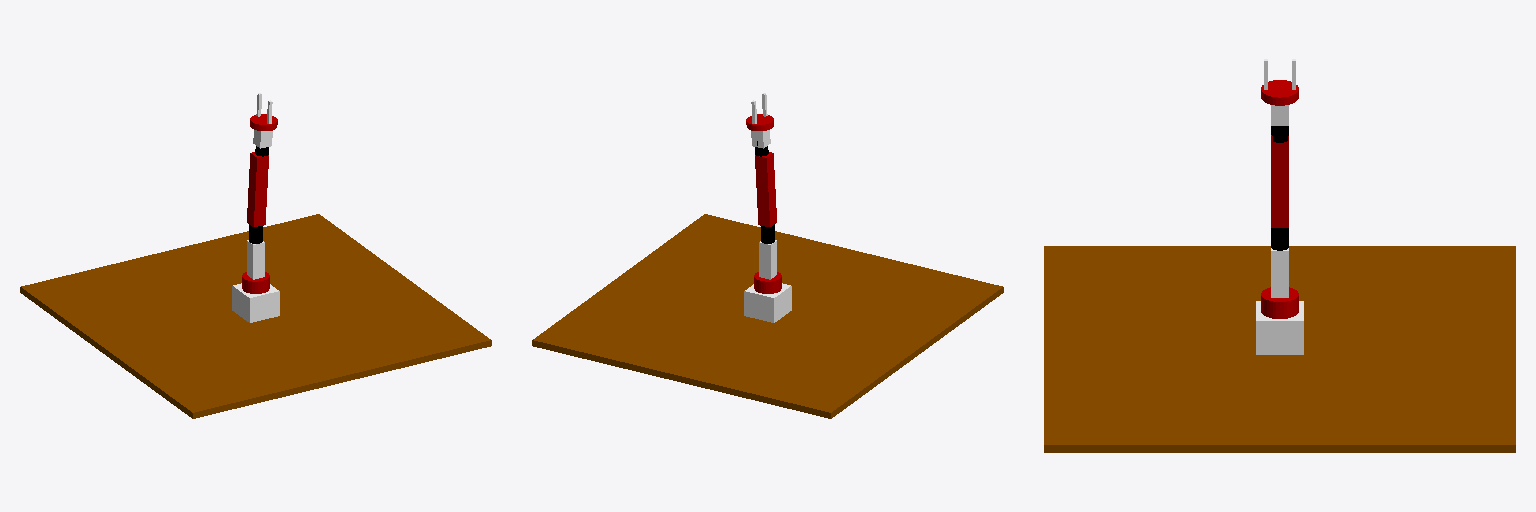
robot.urdf — seven_dof_arm:
<?xml version="1.0" ?>
<!-- =================================================================================== -->
<!-- |    This document was autogenerated by xacro from [local-path]/myrobot_ws/src/learn_urdf_pkg/xacro/seven_dof_arm.xacro | -->
<!-- |    EDITING THIS FILE BY HAND IS NOT RECOMMENDED                                 | -->
<!-- =================================================================================== -->
<robot name="seven_dof_arm">
    <!-- Include material -->
    <material name="Black">
        <color rgba="0 0 0 1" />
    </material>
    <material name="Red">
        <color rgba="0.8 0.0 0.0 1.0" />
    </material>
    <material name="White">
        <color rgba="1.0 1.0 1.0 1.0" />
    </material>
    <!-- Robot Description -->
    <!-- Bottom link -->
    <link name="bottom_link">
        <visual>
            <origin rpy="0 0 0" xyz=" 0 0 -0.04" />
            <geometry>
                <box size="1 1 0.02" />
            </geometry>
            <material name="Brown">
                <color rgba="0.58 0.33 0 1" />
            </material>
        </visual>
        <collision>
            <origin rpy="0 0 0" xyz=" 0 0 -0.04" />
            <geometry>
                <box size="1 1 0.02" />
            </geometry>
        </collision>
        <inertial>
            <mass value="0.1" />
            <origin xyz="0 0 0" rpy="0 0 0" />
            <inertia ixx="0.03" iyy="0.03" izz="0.03" ixy="0.0" ixz="0.0" iyz="0.0" />
        </inertial>
    </link>
    <gazebo reference="bottom_link">
        <material>Gazebo/White</material>
        <plugin name="gazebo_ros_control">
            <robotNamespace>/</robotNamespace>
        </plugin>
    </gazebo>
    <!-- Bottom-Base Joint -->
    <joint name="bottom_joint" type="fixed">
        <origin rpy="0 0 0" xyz="0 0 0" />
        <parent link="bottom_link" />
        <child link="base_link" />
    </joint>
    <!-- Base Link -->
    <link name="base_link">
        <visual>
            <origin rpy="1.570795 0 0" xyz="0 0 0" />
            <!-- rotate PI/2 -->
            <geometry>
                <box size="0.1 0.1 0.1" />
            </geometry>
            <material name="White" />
        </visual>
        <collision>
            <origin rpy="1.570795 0 0" xyz="0 0 0" />
            <!-- rotate PI/2 -->
            <geometry>
                <box size="0.1 0.1 0.1" />
            </geometry>
        </collision>
        <inertial>
            <mass value="1" />
            <inertia ixx="1.0" ixy="0.0" ixz="0.0" iyy="0.5" iyz="0.0" izz="1.0" />
            <origin xyz="0 0 0" rpy="0 0 0" />
        </inertial>
        <!-- This part you get from earlier definition -->
    </link>
    <gazebo reference="base_link">
        <material>Gazebo/White</material>
    </gazebo>
    <!-- Base-Shoulder_Pan Joint -->
    <joint name="shoulder_pan_joint" type="revolute">
        <parent link="base_link" />
        <child link="shoulder_pan_link" />
        <origin rpy="0 1.570795 0.0" xyz="0 0 0.05" />
        <axis xyz="-1 0 0" />
        <limit effort="300" lower="-2.61799387799" upper="1.98394848567" velocity="1" />
        <dynamics damping="50" friction="1" />
    </joint>
    <!-- Shoulder_Pan_Link -->
    <link name="shoulder_pan_link">
        <visual>
            <origin rpy="0 1.570795 0" xyz="0 0 0" />
            <geometry>
                <cylinder length="0.08" radius="0.04" />
            </geometry>
            <material name="Red" />
        </visual>
        <collision>
            <origin rpy="0 1.570795 0" xyz="0 0 0" />
            <geometry>
                <cylinder length="0.08" radius="0.04" />
            </geometry>
        </collision>
        <inertial>
            <mass value="1" />
            <inertia ixx="1.0" ixy="0.0" ixz="0.0" iyy="0.5" iyz="0.0" izz="1.0" />
            <origin xyz="0 0 0" rpy="0 0 0" />
        </inertial>
    </link>
    <gazebo reference="shoulder_pan_link">
        <material>Gazebo/Red</material>
    </gazebo>
    <!-- Shoulder_Pan-Shoulder_Pitch Joint -->
    <joint name="shoulder_pitch_joint" type="revolute">
        <parent link="shoulder_pan_link" />
        <child link="shoulder_pitch_link" />
        <origin rpy="-1.570795 0 1.570795" xyz="-0.041 0.0021 0.0" />
        <axis xyz="1 0 0" />
        <limit effort="300" lower="-1.19962513147" upper="1.89994105047" velocity="1" />
        <dynamics damping="50" friction="1" />
    </joint>
    <!-- Shoulder_Pitch Link -->
    <link name="shoulder_pitch_link">
        <visual>
            <origin rpy="0 1.570795 0" xyz="-0.002 0 0.04" />
            <geometry>
                <box size="0.14 0.04 0.04" />
            </geometry>
            <material name="White" />
        </visual>
        <collision>
            <origin rpy="0 1.570795 0" xyz="-0.002 0 0.04" />
            <geometry>
                <box size="0.14 0.04 0.04" />
            </geometry>
        </collision>
        <inertial>
            <mass value="1" />
            <inertia ixx="1.0" ixy="0.0" ixz="0.0" iyy="0.5" iyz="0.0" izz="1.0" />
            <origin xyz="0 0 0" rpy="0 0 0" />
        </inertial>
    </link>
    <gazebo reference="shoulder_pitch_link">
        <material>Gazebo/White</material>
    </gazebo>
    <!-- Shoulder_Pitch-Elbow_Roll Joint -->
    <joint name="elbow_roll_joint" type="revolute">
        <parent link="shoulder_pitch_link" />
        <child link="elbow_roll_link" />
        <origin rpy="3.14159 1.570795 0" xyz="-0.002 0 0.1206" />
        <axis xyz="-1 0 0" />
        <limit effort="300" lower="-2.61799387799" upper="0.705631162427" velocity="1" />
        <dynamics damping="50" friction="1" />
    </joint>
    <!-- Elbow_Roll Link -->
    <link name="elbow_roll_link">
        <visual>
            <origin rpy="0 1.570795 0" xyz="-0.015 0.0 -0.0" />
            <geometry>
                <cylinder length="0.06" radius="0.02" />
            </geometry>
            <material name="Black" />
        </visual>
        <collision>
            <origin rpy="0 1.570795 0" xyz="-0.015 0.0 -0.0" />
            <geometry>
                <cylinder length="0.06" radius="0.02" />
            </geometry>
        </collision>
        <inertial>
            <mass value="1" />
            <inertia ixx="1.0" ixy="0.0" ixz="0.0" iyy="0.5" iyz="0.0" izz="1.0" />
            <origin xyz="0 0 0" rpy="0 0 0" />
        </inertial>
    </link>
    <gazebo reference="elbow_roll_link">
        <material>Gazebo/Black</material>
    </gazebo>
    <!-- Elbow_Roll-Elbow_Pitch Joint -->
    <joint name="elbow_pitch_joint" type="revolute">
        <parent link="elbow_roll_link" />
        <child link="elbow_pitch_link" />
        <origin rpy="0.055 1.570795 0" xyz="-0.035 0 0.0" />
        <axis xyz="1 0 0" />
        <limit effort="300" lower="-1.5953400194" upper="1.93281579274" velocity="1" />
        <dynamics damping="50" friction="1" />
    </joint>
    <!-- Elbow_Ptich Link -->
    <link name="elbow_pitch_link">
        <visual>
            <origin rpy="0 1.570795 0" xyz="0 0 -0.12" />
            <geometry>
                <box size="0.22 0.04 0.04" />
            </geometry>
            <material name="Red" />
        </visual>
        <collision>
            <origin rpy="0 1.570795 0" xyz="0 0 -0.12" />
            <geometry>
                <box size="0.22 0.04 0.04" />
            </geometry>
        </collision>
        <inertial>
            <mass value="1" />
            <inertia ixx="1.0" ixy="0.0" ixz="0.0" iyy="0.5" iyz="0.0" izz="1.0" />
            <origin xyz="0 0 0" rpy="0 0 0" />
        </inertial>
    </link>
    <gazebo reference="elbow_pitch_link">
        <material>Gazebo/Red</material>
    </gazebo>
    <!-- Elbow_Pitch-Wrist_Roll Joint -->
    <joint name="wrist_roll_joint" type="revolute">
        <parent link="elbow_pitch_link" />
        <child link="wrist_roll_link" />
        <origin rpy="0 1.570795 3.14159" xyz="0.0 0.0081 -.248" />
        <axis xyz="1 0 0" />
        <limit effort="300" lower="-2.61799387799" upper="2.6128806087" velocity="1" />
        <dynamics damping="50" friction="1" />
    </joint>
    <!-- Wrist_Roll Link -->
    <link name="wrist_roll_link">
        <visual>
            <origin rpy="0 1.570795 0" xyz="0 0 0" />
            <geometry>
                <cylinder length="0.06" radius="0.02" />
            </geometry>
            <material name="Black" />
        </visual>
        <collision>
            <origin rpy="0 1.570795 0" xyz="0 0 0" />
            <geometry>
                <cylinder length="0.06" radius="0.02" />
            </geometry>
        </collision>
        <inertial>
            <mass value="1" />
            <inertia ixx="1.0" ixy="0.0" ixz="0.0" iyy="0.5" iyz="0.0" izz="1.0" />
            <origin xyz="0 0 0" rpy="0 0 0" />
        </inertial>
    </link>
    <gazebo reference="wrist_roll_link">
        <material>Gazebo/Black</material>
    </gazebo>
    <!-- Wrist_Roll-Wrist Pitch Joint -->
    <joint name="wrist_pitch_joint" type="revolute">
        <parent link="wrist_roll_link" />
        <child link="wrist_pitch_link" />
        <origin rpy="0 1.570795 0" xyz="0.0 0.0 0.0001" />
        <axis xyz="1 0 0" />
        <limit effort="300" lower="-1.5953400194" upper="1.98394848567" velocity="1" />
        <dynamics damping="50" friction="1" />
    </joint>
    <!-- Wrist Pitch Link -->
    <link name="wrist_pitch_link">
        <visual>
            <origin rpy="0 1.570795 0" xyz="0 0 0.04" />
            <geometry>
                <box size="0.06 0.04 0.04" />
            </geometry>
            <material name="White" />
        </visual>
        <collision>
            <origin rpy="0 1.570795 0" xyz="0 0 0.04 " />
            <geometry>
                <box size="0.06 0.04 0.04" />
            </geometry>
        </collision>
        <inertial>
            <mass value="1" />
            <inertia ixx="1.0" ixy="0.0" ixz="0.0" iyy="0.5" iyz="0.0" izz="1.0" />
            <origin xyz="0 0 0" rpy="0 0 0" />
        </inertial>
    </link>
    <gazebo reference="wrist_pitch_link">
        <material>Gazebo/White</material>
    </gazebo>
    <!-- Wrist_pitch-Grip_roll -->
    <joint name="gripper_roll_joint" type="revolute">
        <parent link="wrist_pitch_link" />
        <child link="gripper_roll_link" />
        <origin rpy="4.712384999999999 -1.570795 0" xyz="0 0 0.080" />
        <axis xyz="1 0 0" />
        <limit effort="300" lower="-3.14" upper="3.14" velocity="1" />
        <dynamics damping="50" friction="1" />
    </joint>
    <!-- Grip_roll link -->
    <link name="gripper_roll_link">
        <visual>
            <origin rpy="0 1.570795 0" xyz="0 0 0" />
            <geometry>
                <cylinder length="0.02" radius="0.04" />
            </geometry>
            <material name="Red" />
        </visual>
        <collision>
            <origin rpy="0 1.570795 0" xyz="0 0 0" />
            <geometry>
                <cylinder length="0.02" radius="0.04" />
            </geometry>
        </collision>
        <inertial>
            <mass value="1" />
            <inertia ixx="1.0" ixy="0.0" ixz="0.0" iyy="0.5" iyz="0.0" izz="1.0" />
            <origin xyz="0 0 0" rpy="0 0 0" />
        </inertial>
    </link>
    <gazebo reference="gripper_roll_link">
        <material>Gazebo/Red</material>
    </gazebo>
    <!-- Grip_roll-Left_grip Joint-->
    <joint name="finger_joint1" type="prismatic">
        <parent link="gripper_roll_link" />
        <child link="gripper_finger_link1" />
        <origin xyz="0.0 0 0" />
        <axis xyz="0 1 0" />
        <limit effort="100" lower="0" upper="0.03" velocity="1.0" />
        <safety_controller k_position="20" k_velocity="20" soft_lower_limit="-0.15" soft_upper_limit="0.0" />
        <dynamics damping="50" friction="1" />
    </joint>
    <!-- Left Grip Link -->
    <link name="gripper_finger_link1">
        <visual>
            <origin xyz="0.04 -0.03 0" />
            <geometry>
                <box size="0.08 0.01 0.01" />
            </geometry>
            <material name="White" />
        </visual>
        <inertial>
            <mass value="1" />
            <inertia ixx="1.0" ixy="0.0" ixz="0.0" iyy="0.5" iyz="0.0" izz="1.0" />
        </inertial>
    </link>
    <gazebo reference="l_gripper_aft_link">
        <material>Gazebo/White</material>
    </gazebo>
    <!-- Grip_roll-Right_grip Joint -->
    <joint name="finger_joint2" type="prismatic">
        <parent link="gripper_roll_link" />
        <child link="gripper_finger_link2" />
        <origin xyz="0.0 0 0" />
        <axis xyz="0 1 0" />
        <limit effort="1" lower="-0.03" upper="0" velocity="1.0" />
        <dynamics damping="50" friction="1" />
    </joint>
    <!-- Right_grip Link -->
    <link name="gripper_finger_link2">
        <visual>
            <origin xyz="0.04 0.03 0" />
            <geometry>
                <box size="0.08 0.01 0.01" />
            </geometry>
            <material name="White" />
        </visual>
        <inertial>
            <mass value="1" />
            <inertia ixx="1.0" ixy="0.0" ixz="0.0" iyy="0.5" iyz="0.0" izz="1.0" />
        </inertial>
    </link>
    <gazebo reference="r_gripper_aft_link">
        <material>Gazebo/White</material>
    </gazebo>
    <!-- Grasping frame
        <link name="grasping_frame">
            <inertial>
                <origin xyz="0 0 0" rpy="0 0 0"/>
                <mass value="0.0001"/>
                <cuboid_inertia mass="0.0001" x="0.001" y="0.001" z="0.001"/>
                <inertia  ixx="1.0" ixy="0.0"  ixz="0.0"  iyy="100.0"  iyz="0.0"  izz="1.0" />
            </inertial>

            <visual>
                <origin xyz="0 0 0"/>
                <geometry> <box size="${right_gripper_len} ${right_gripper_width} ${right_gripper_height}" />
                </geometry>
                <material name="White" />
            </visual>
        </link>

        
        <joint name="grasping_frame_joint" type="fixed">
            <parent link="gripper_roll_link"/>
            <child link="grasping_frame"/>
            <origin xyz="0.08 0 0" rpy="0 0 0"/>
        </joint> -->
    <!-- Transmissions for ROS Control -->
    <transmission name="tran1">
        <type>transmission_interface/SimpleTransmission</type>
        <joint name="shoulder_pan_joint">
            <hardwareInterface>hardware_interface/PositionJointInterface</hardwareInterface>
        </joint>
        <actuator name="motor1">
            <hardwareInterface>hardware_interface/PositionJointInterface</hardwareInterface>
            <mechanicalReduction>1</mechanicalReduction>
        </actuator>
    </transmission>
    <transmission name="tran1">
        <type>transmission_interface/SimpleTransmission</type>
        <joint name="shoulder_pitch_joint">
            <hardwareInterface>hardware_interface/PositionJointInterface</hardwareInterface>
        </joint>
        <actuator name="motor1">
            <hardwareInterface>hardware_interface/PositionJointInterface</hardwareInterface>
            <mechanicalReduction>1</mechanicalReduction>
        </actuator>
    </transmission>
    <transmission name="tran1">
        <type>transmission_interface/SimpleTransmission</type>
        <joint name="elbow_roll_joint">
            <hardwareInterface>hardware_interface/PositionJointInterface</hardwareInterface>
        </joint>
        <actuator name="motor1">
            <hardwareInterface>hardware_interface/PositionJointInterface</hardwareInterface>
            <mechanicalReduction>1</mechanicalReduction>
        </actuator>
    </transmission>
    <transmission name="tran1">
        <type>transmission_interface/SimpleTransmission</type>
        <joint name="elbow_pitch_joint">
            <hardwareInterface>hardware_interface/PositionJointInterface</hardwareInterface>
        </joint>
        <actuator name="motor1">
            <hardwareInterface>hardware_interface/PositionJointInterface</hardwareInterface>
            <mechanicalReduction>1</mechanicalReduction>
        </actuator>
    </transmission>
    <transmission name="tran1">
        <type>transmission_interface/SimpleTransmission</type>
        <joint name="wrist_roll_joint">
            <hardwareInterface>hardware_interface/PositionJointInterface</hardwareInterface>
        </joint>
        <actuator name="motor1">
            <hardwareInterface>hardware_interface/PositionJointInterface</hardwareInterface>
            <mechanicalReduction>1</mechanicalReduction>
        </actuator>
    </transmission>
    <transmission name="tran1">
        <type>transmission_interface/SimpleTransmission</type>
        <joint name="wrist_pitch_joint">
            <hardwareInterface>hardware_interface/PositionJointInterface</hardwareInterface>
        </joint>
        <actuator name="motor1">
            <hardwareInterface>hardware_interface/PositionJointInterface</hardwareInterface>
            <mechanicalReduction>1</mechanicalReduction>
        </actuator>
    </transmission>
    <transmission name="tran1">
        <type>transmission_interface/SimpleTransmission</type>
        <joint name="gripper_roll_joint">
            <hardwareInterface>hardware_interface/PositionJointInterface</hardwareInterface>
        </joint>
        <actuator name="motor1">
            <hardwareInterface>hardware_interface/PositionJointInterface</hardwareInterface>
            <mechanicalReduction>1</mechanicalReduction>
        </actuator>
    </transmission>
    <transmission name="tran1">
        <type>transmission_interface/SimpleTransmission</type>
        <joint name="finger_joint1">
            <hardwareInterface>hardware_interface/PositionJointInterface</hardwareInterface>
        </joint>
        <actuator name="motor1">
            <hardwareInterface>hardware_interface/PositionJointInterface</hardwareInterface>
            <mechanicalReduction>1</mechanicalReduction>
        </actuator>
    </transmission>
    <transmission name="tran1">
        <type>transmission_interface/SimpleTransmission</type>
        <joint name="finger_joint2">
            <hardwareInterface>hardware_interface/PositionJointInterface</hardwareInterface>
        </joint>
        <actuator name="motor1">
            <hardwareInterface>hardware_interface/PositionJointInterface</hardwareInterface>
            <mechanicalReduction>1</mechanicalReduction>
        </actuator>
    </transmission>
    <!-- ros_control plugin -->
    <gazebo>
        <plugin filename="libgazebo_ros_control.so" name="gazebo_ros_control">
            <robotNamespace>/seven_dof_arm</robotNamespace>
        </plugin>
    </gazebo>
</robot>

--- What the picture shows (computed from the rendered views, not written in the file) ---
The picture shows the robot from 3 angles, left to right: view 1: azimuth 30°, elevation 25°; view 2: azimuth 150°, elevation 25°; view 3: azimuth 270°, elevation 25°; orthographic projection.
Robot: seven_dof_arm — 11 links, 10 joints (7 revolute, 2 prismatic, 1 fixed); root link bottom_link; default pose: all joints at 0.
Visible links, largest first — view 1: bottom_link, base_link, elbow_pitch_link, shoulder_pitch_link; view 2: bottom_link, base_link, elbow_pitch_link, shoulder_pitch_link; view 3: bottom_link, base_link, elbow_pitch_link, shoulder_pan_link, shoulder_pitch_link, gripper_roll_link.
Link boxes in pixels (bbox=[...]): bottom_link: bbox=[20, 214, 491, 418]; base_link: bbox=[232, 283, 279, 322]; elbow_pitch_link: bbox=[247, 152, 268, 226]; shoulder_pitch_link: bbox=[247, 240, 264, 279]; bottom_link: bbox=[532, 214, 1003, 418]; base_link: bbox=[744, 283, 791, 322]; elbow_pitch_link: bbox=[755, 152, 776, 226]; shoulder_pitch_link: bbox=[759, 240, 776, 279]; bottom_link: bbox=[1044, 246, 1515, 452]; base_link: bbox=[1256, 301, 1303, 354]; elbow_pitch_link: bbox=[1271, 135, 1288, 227]; shoulder_pan_link: bbox=[1261, 287, 1298, 318]; shoulder_pitch_link: bbox=[1271, 248, 1288, 297]; gripper_roll_link: bbox=[1261, 80, 1298, 105].
Bounding box of the posed robot: 1 × 1 × 0.7038 m (x, y, z).
Geometry: primitives only (box / cylinder / sphere), no mesh files.